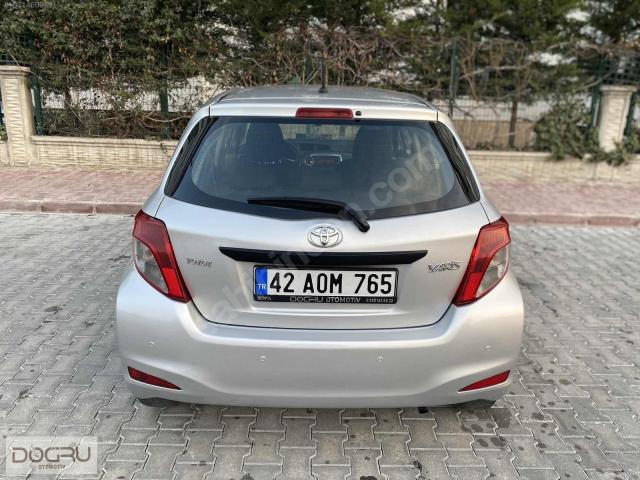plaka: (254, 267, 398, 303)
